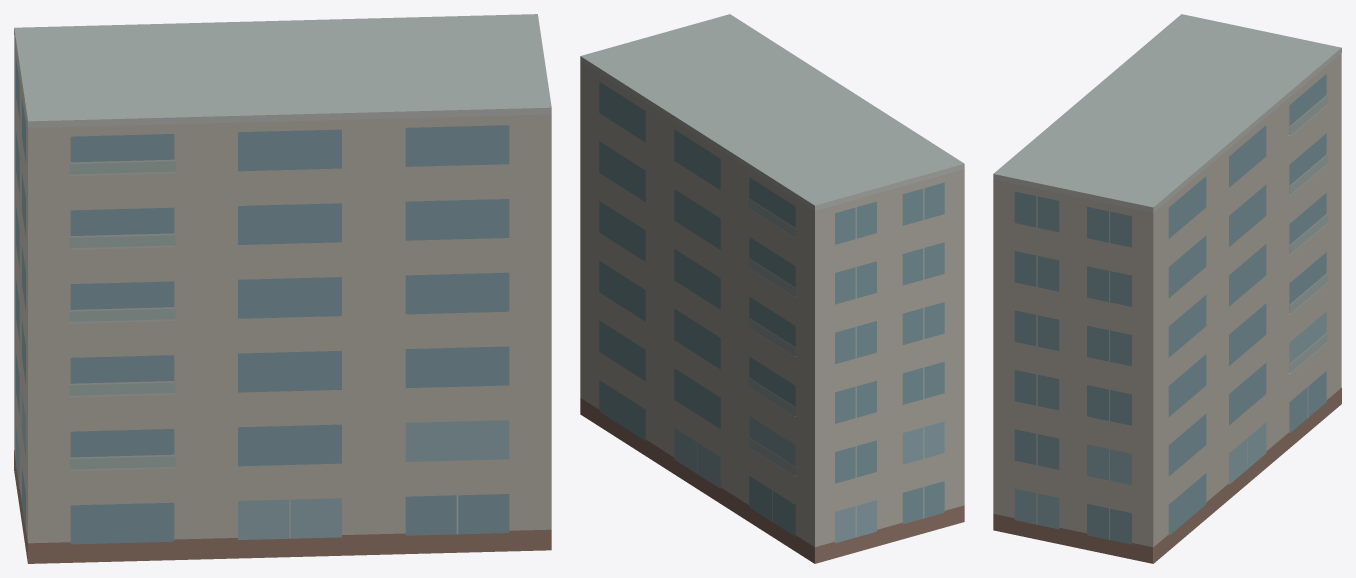
Rendered from survey-upis-32881811.glb.
The picture shows the model from 3 angles, left to right: view 1: azimuth 30°, elevation 25°; view 2: azimuth 150°, elevation 25°; view 3: azimuth 270°, elevation 25°; orthographic projection. The views are drawn at different scales.
Parts seen in each view (by area): view 1: survey-upis-32881811.tmp; view 2: survey-upis-32881811.tmp; view 3: survey-upis-32881811.tmp.
Part boxes in pixels (left/top/right/bottom): survey-upis-32881811.tmp: left=14, top=14, right=551, bottom=563; survey-upis-32881811.tmp: left=580, top=14, right=964, bottom=563; survey-upis-32881811.tmp: left=993, top=14, right=1341, bottom=563.
Size of the model in its own units: 18.75 by 16.1 by 14.28.
